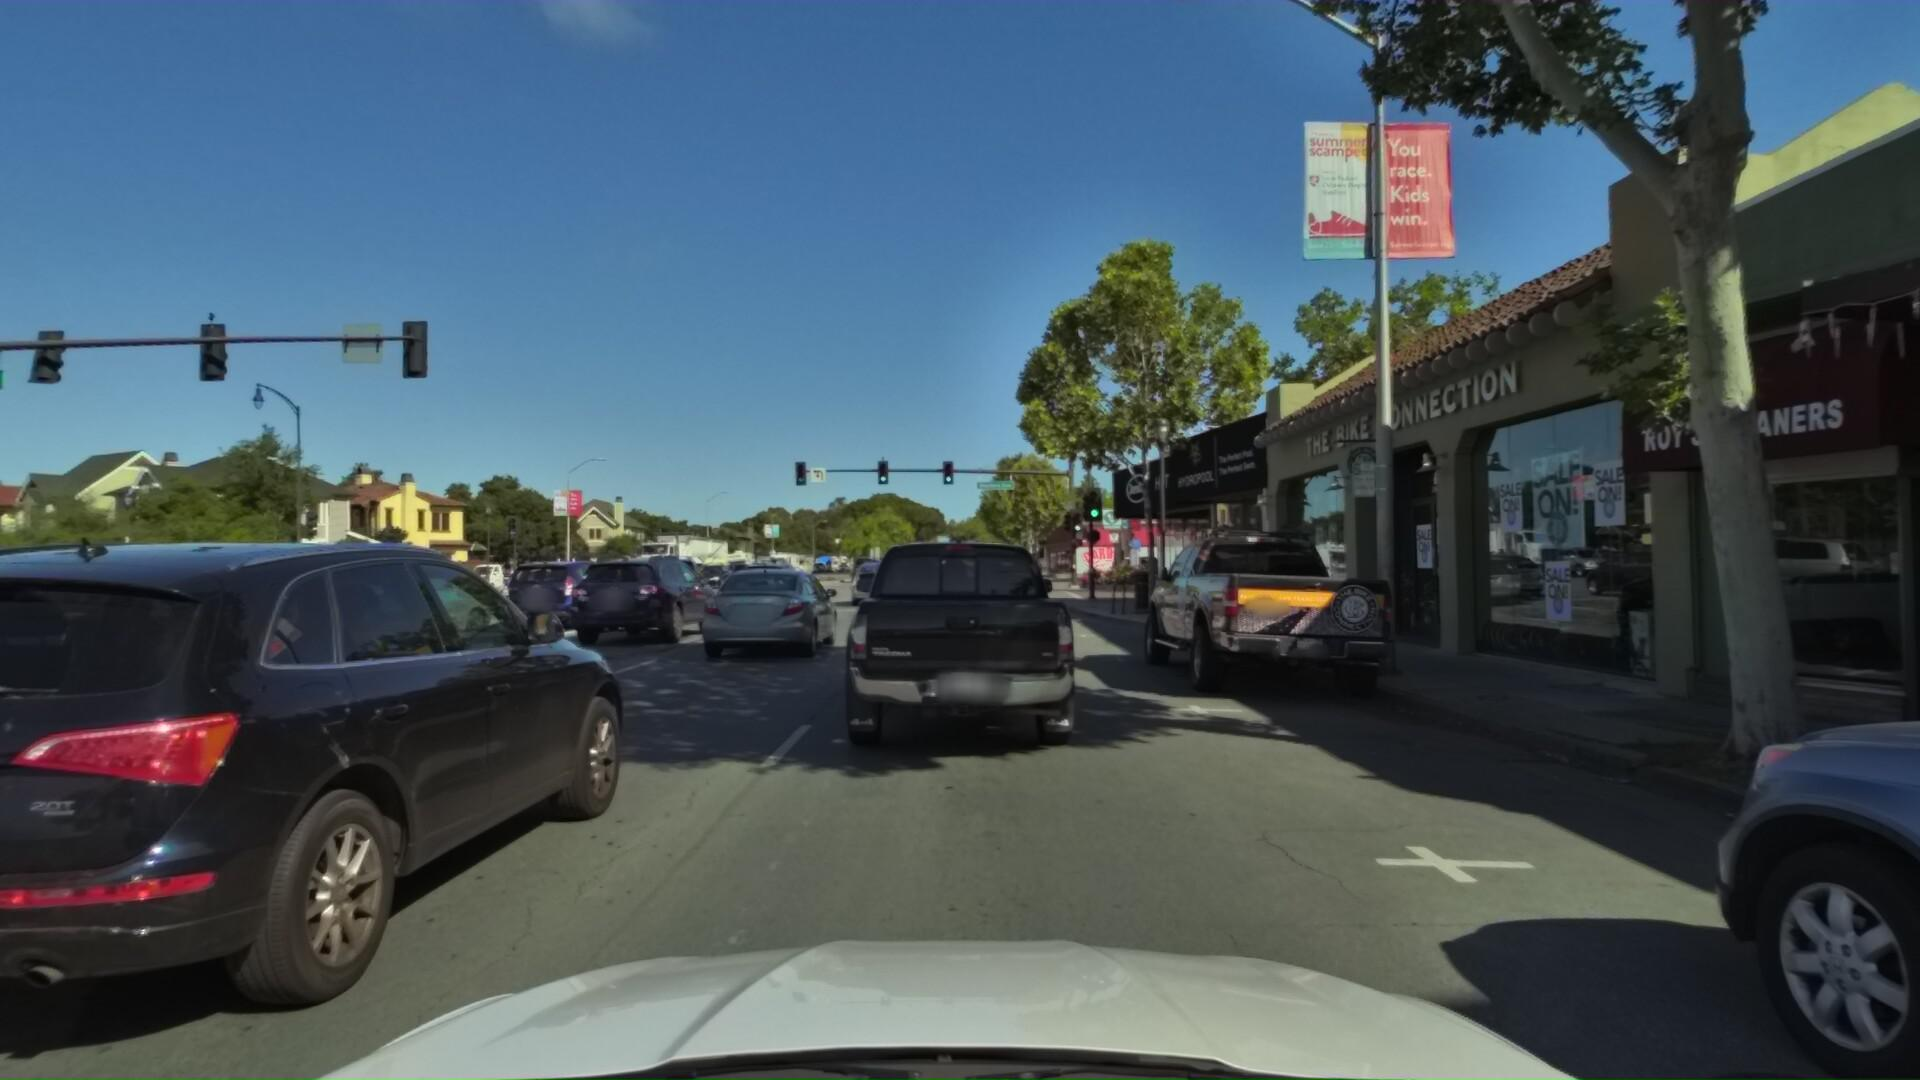car: (828, 525, 1083, 770), (1127, 496, 1416, 702), (261, 545, 504, 676), (679, 558, 851, 671), (570, 547, 724, 644), (502, 554, 642, 634), (473, 564, 593, 607), (644, 553, 717, 607), (940, 558, 1005, 613), (843, 560, 907, 611), (583, 547, 637, 583), (687, 553, 738, 585), (891, 564, 927, 593), (725, 556, 762, 582)
truck: (618, 521, 733, 588)
